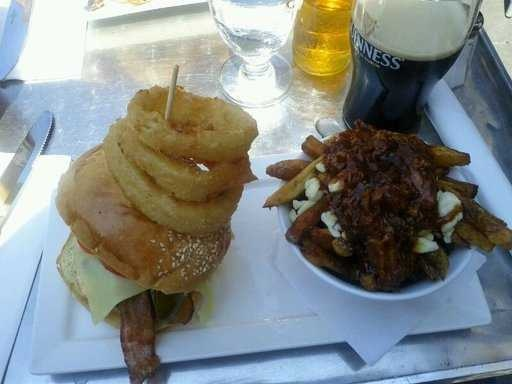hamburger: (51, 74, 271, 351)
